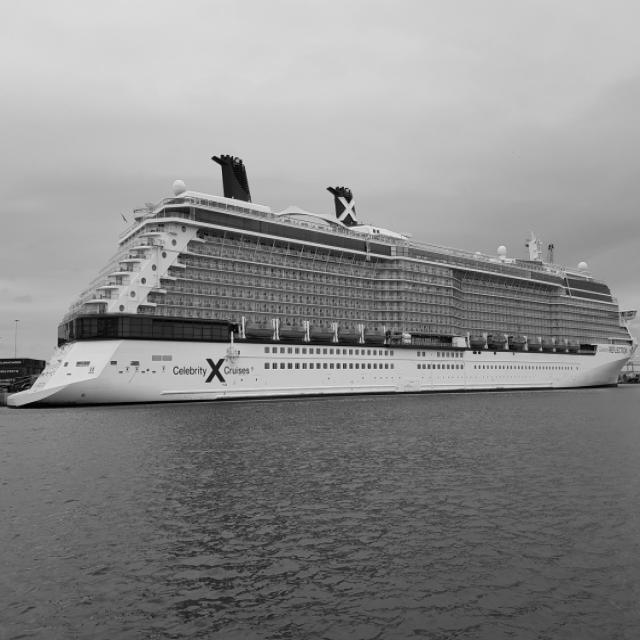cruises: (4, 150, 640, 416)
